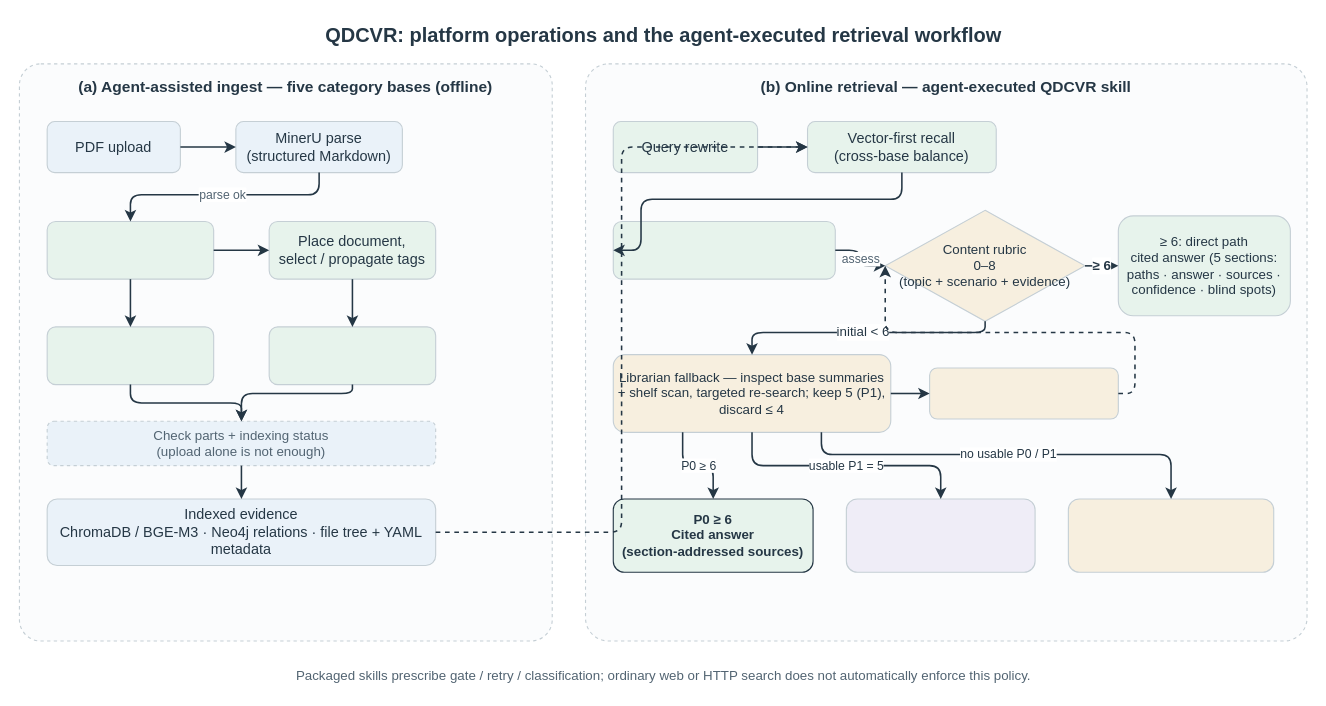
Image size: 1326x706. Some labels were removed from this diagram. Each missing label, with the centre of its shape:
"Agent reads content, selects category base" belongs at point (130, 249).
"Deterministic split, index and store parts" belongs at point (130, 355).
"No usable P0 / P1 Not found (scope + near miss + reason)" belongs at point (1170, 535).
"Read candidate text (parts / line-offset continuation)" belongs at point (723, 249).
"Read new text + recheck rubric" belongs at point (1023, 393).
"Retain section paths (base / doc / part / §)" belongs at point (352, 355).
"Usable P1 = 5 Qualified answer (with attribution)" belongs at point (940, 535).
